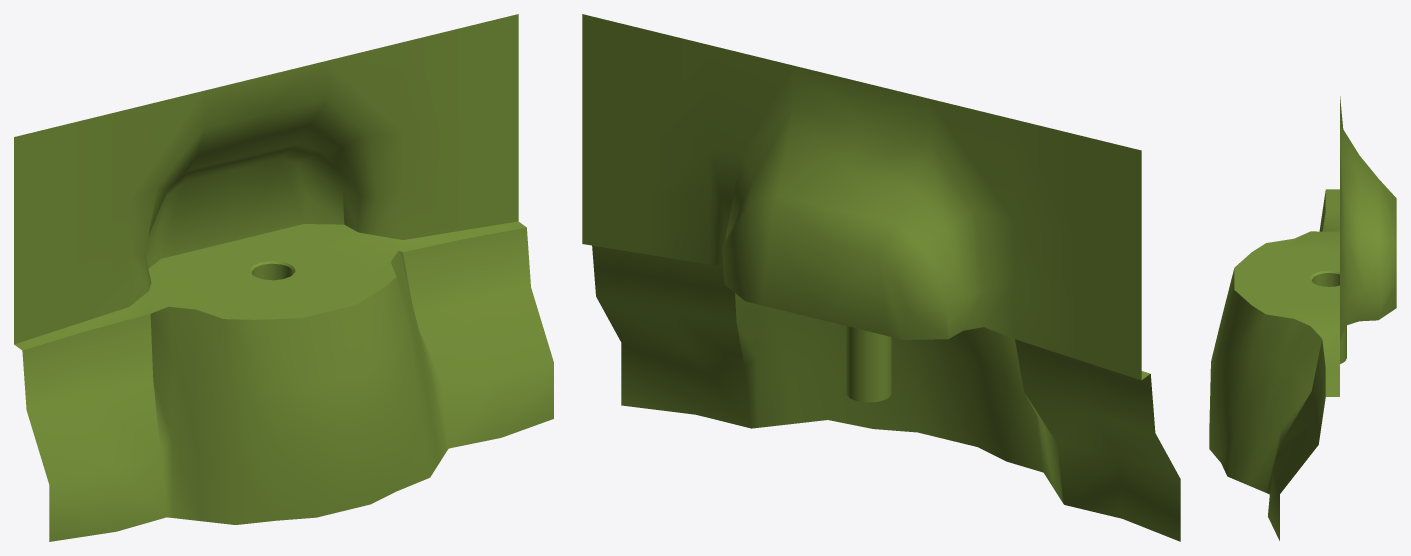
The model's file is Mountain.fbx.
3 views of the same model, side by side, from view 1: azimuth 30°, elevation 25°; view 2: azimuth 150°, elevation 25°; view 3: azimuth 270°, elevation 25° (orthographic). The views are drawn at different scales.
Visible parts, largest first — view 1: Cliffs.001, Circular Floor Cutout.001; view 2: Cliffs.001, Circular Floor Cutout.001; view 3: Cliffs.001, Circular Floor Cutout.001.
Boxes of the visible parts, <box> form: Cliffs.001: <box>14,14,553,541</box>; Circular Floor Cutout.001: <box>231,254,317,289</box>; Cliffs.001: <box>582,14,1180,541</box>; Circular Floor Cutout.001: <box>846,326,891,402</box>; Cliffs.001: <box>1209,96,1396,540</box>; Circular Floor Cutout.001: <box>1301,267,1346,363</box>.
Bounding box in the file's own units: 140 × 100 × 53.26.
